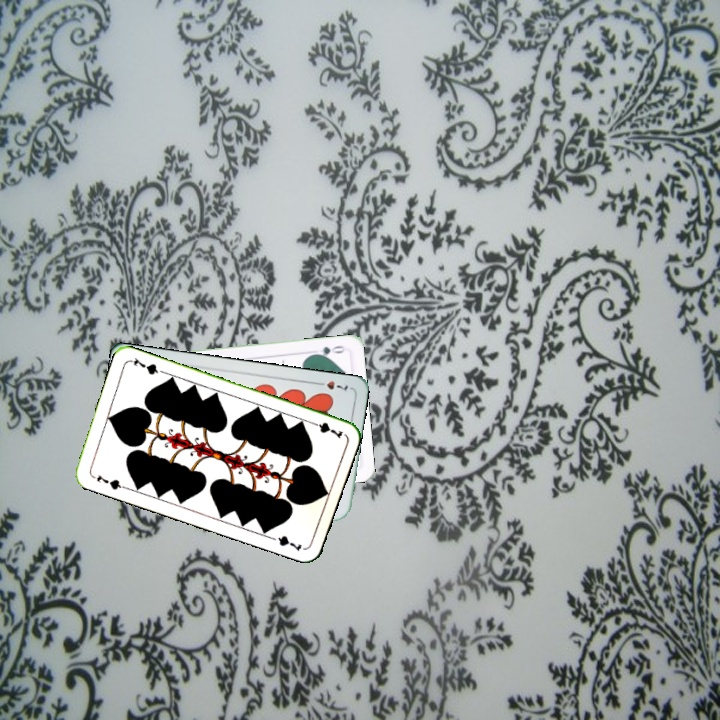G7: (306, 417, 345, 441), (93, 471, 128, 492)
GO: (308, 342, 348, 360)
H7: (312, 377, 351, 393)
